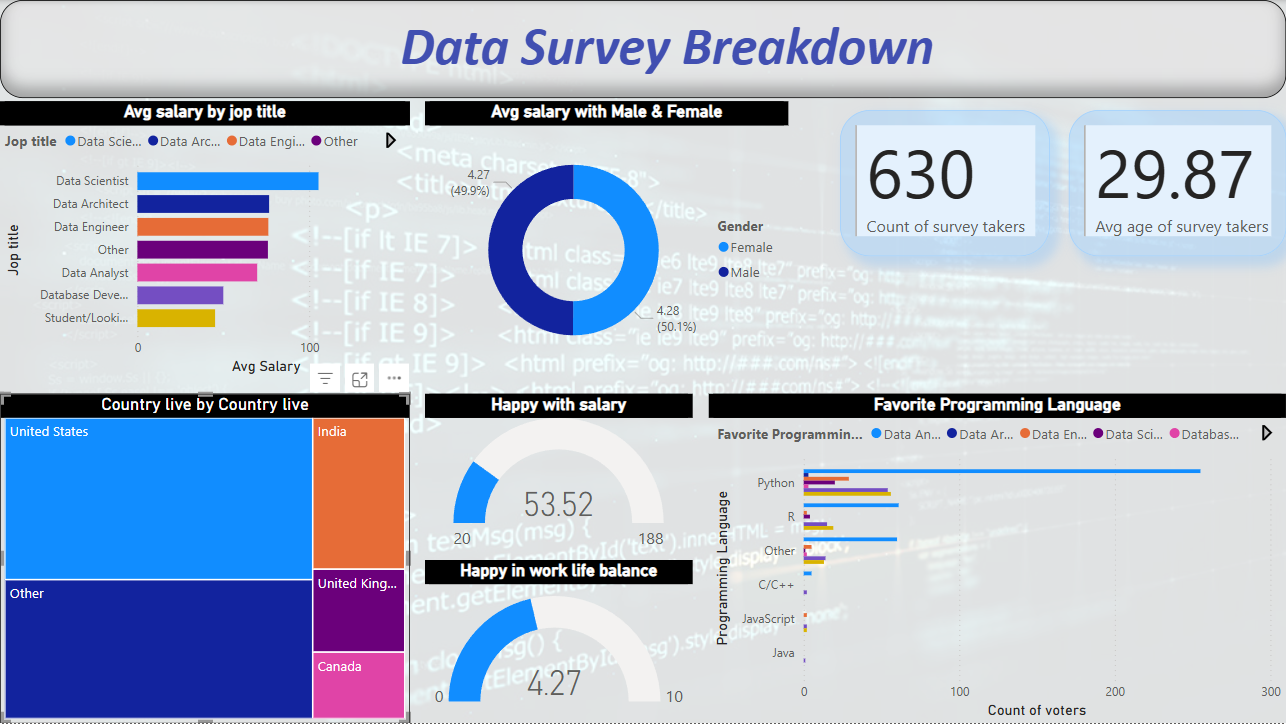

Layout of this report page (visuals, bound fields, positions):
{"tool":"powerbi","page":{"name":"Page 1","canvas":[1280,720],"ordinal":0},"visuals":[{"type":"textbox","box":[0,0,1280.3,97.4],"z":0},{"type":"multiRowCard","fields":{"Values":["Avg(Data Professional Survey.Q10 - Current Age)"]},"box":[1063.6,109.5,216.4,145.5],"z":2000},{"type":"multiRowCard","fields":{"Values":["Data Professional Survey (2).Unique ID"]},"box":[835.9,109.5,209,145.5],"z":3000},{"type":"clusteredBarChart","title":"Favorite Programming Language","fields":{"Category":["Data Professional Survey.Q5 - Favorite Programming Language"],"Y":["CountNonNull(Data Professional Survey (2).Unique ID)"],"Series":["Data Professional Survey.Q1 - Which Title Best Fits your Current Role?.1"]},"box":[705.3,391.8,574.7,328.4],"z":4000},{"type":"barChart","title":"Avg salary by jop title","fields":{"Category":["Data Professional Survey (2).Q1 - Which Title Best Fits your Current Role?.1"],"Y":["Avg(Data Professional Survey (2).Max Yearly Salary (in USD))"],"Series":["Data Professional Survey (2).Q1 - Which Title Best Fits your Current Role?.1"]},"box":[0,100.8,408,277.4],"z":5000},{"type":"treemap","fields":{"Group":["Data Professional Survey.Q11 - Which Country do you live in?"],"Values":["CountNonNull(Data Professional Survey.Q11 - Which Country do you live in?)"]},"box":[0,391.8,408,328.4],"z":6000},{"type":"donutChart","title":"Avg salary with Male & Female","fields":{"Category":["Data Professional Survey.Gender"],"Y":["Avg(Data Professional Survey (2).Q6 - How Happy are you in your Current Position with the following? (Salary))"]},"box":[422.9,100.8,362,277.4],"z":7000},{"type":"gauge","title":"Happy with salary","fields":{"Y":["Avg(Data Professional Survey.AVG salary)"],"MinValue":["Min(Data Professional Survey.AVG salary)"],"MaxValue":["Max(Data Professional Survey.AVG salary)"]},"box":[422.9,391.8,266.2,165.4],"z":8000},{"type":"gauge","title":"Happy in work life balance","fields":{"Y":["Avg(Data Professional Survey (2).Q6 - How Happy are you in your Current Position with the following? (Salary))"],"MinValue":["Min(Data Professional Survey (2).Q6 - How Happy are you in your Current Position with the following? (Salary))"],"MaxValue":["Max(Data Professional Survey (2).Q6 - How Happy are you in your Current Position with the following? (Salary))"]},"box":[422.9,557.3,266.2,163],"z":9000}]}

Visuals, with their boxes in screenshot pixels (x1, y1, x2, y2), scaled from the page's 1280x720 canvas onto the 1286x724 screenshot:
textbox: rect(0, 0, 1285, 98)
multiRowCard - Avg(Data Professional Survey.Q10 - Current Age): rect(1069, 110, 1285, 256)
multiRowCard - Data Professional Survey (2).Unique ID: rect(840, 110, 1050, 256)
"Favorite Programming Language" clusteredBarChart: rect(709, 394, 1285, 723)
"Avg salary by jop title" barChart: rect(0, 101, 410, 380)
treemap - Data Professional Survey.Q11 - Which Country do you live in? x CountNonNull(Data Professional Survey.Q11 - Which Country do you live in?): rect(0, 394, 410, 723)
"Avg salary with Male & Female" donutChart: rect(425, 101, 789, 380)
"Happy with salary" gauge: rect(425, 394, 692, 560)
"Happy in work life balance" gauge: rect(425, 560, 692, 723)
